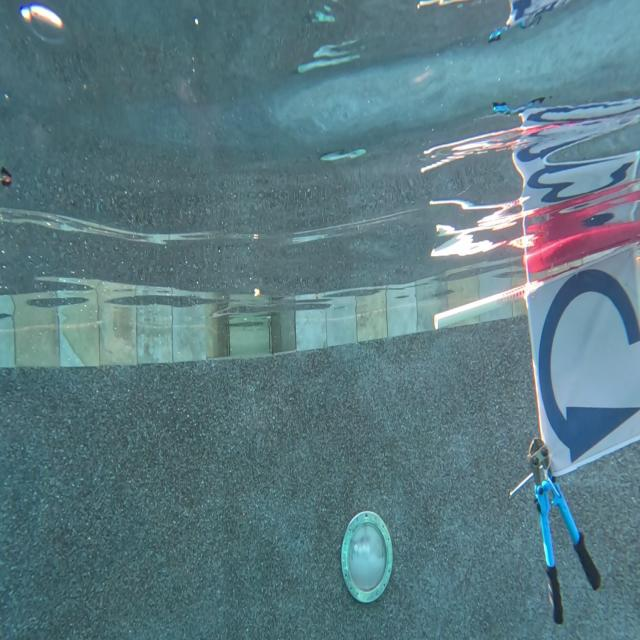blue_side: (527, 247, 640, 473)
